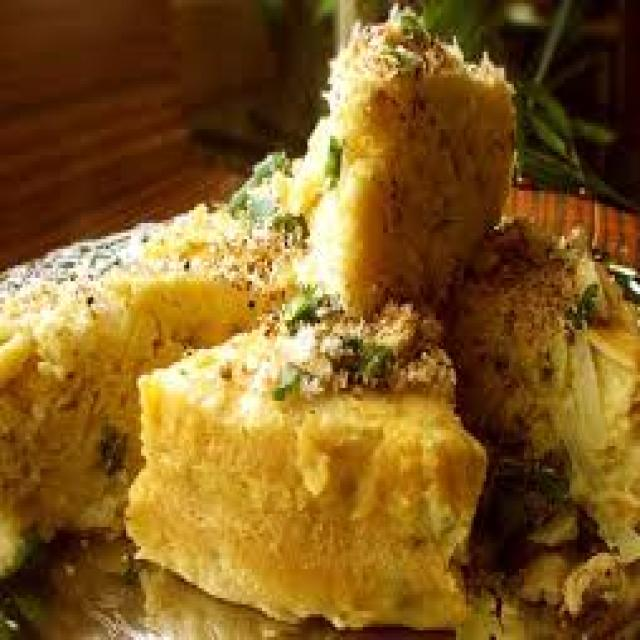DHOKLA: (126, 307, 484, 617)
